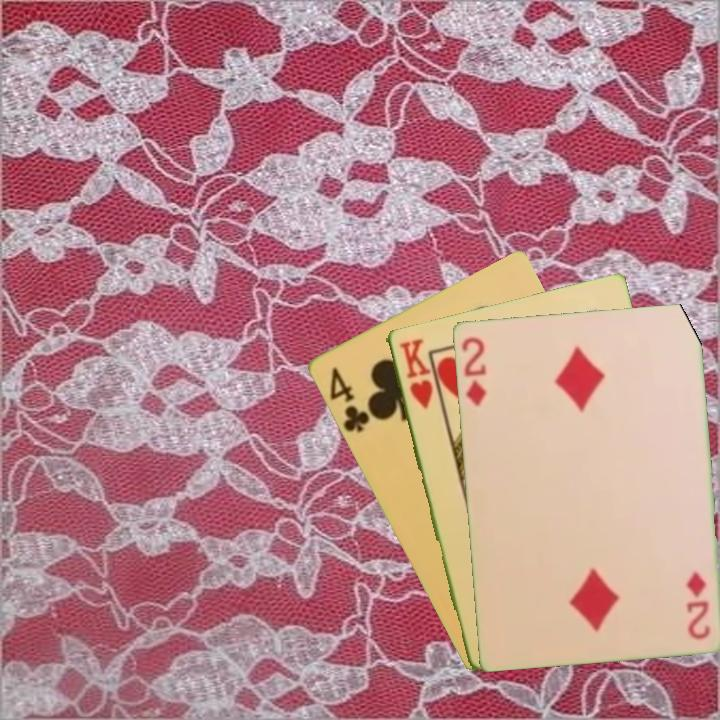2d: (457, 333, 489, 408), (683, 568, 713, 642)
4c: (325, 363, 372, 436)
Kh: (395, 335, 435, 412)
